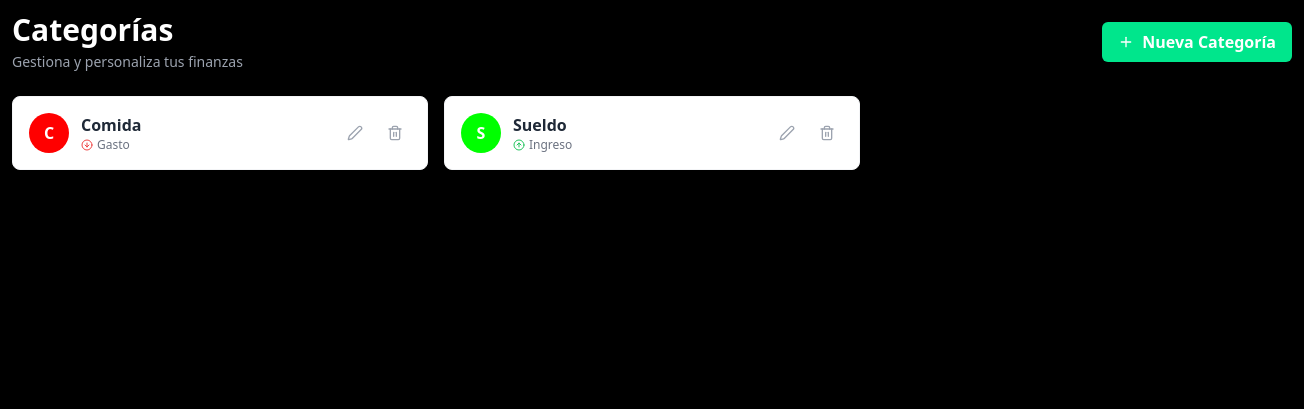
Test: Categories Page › opens form when clicking new category button
What coordinates should you click on to do the following:
click the button "Nueva Categoría"
I would click on:
 (1197, 42)
Its box is x1=1102 y1=22 x2=1292 y2=62.
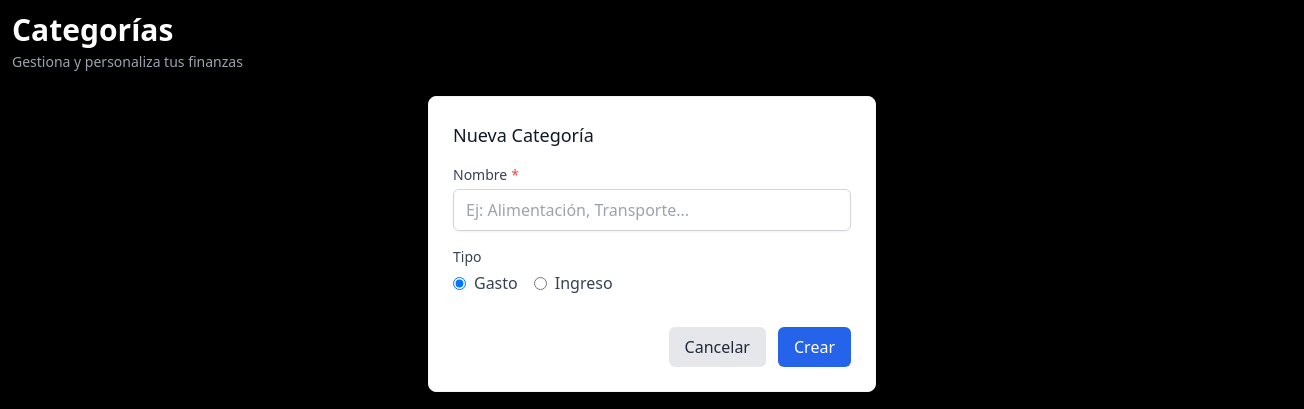
Check: the text "Nombre*" is shown, box x1=453 y1=165 x2=519 y2=184
